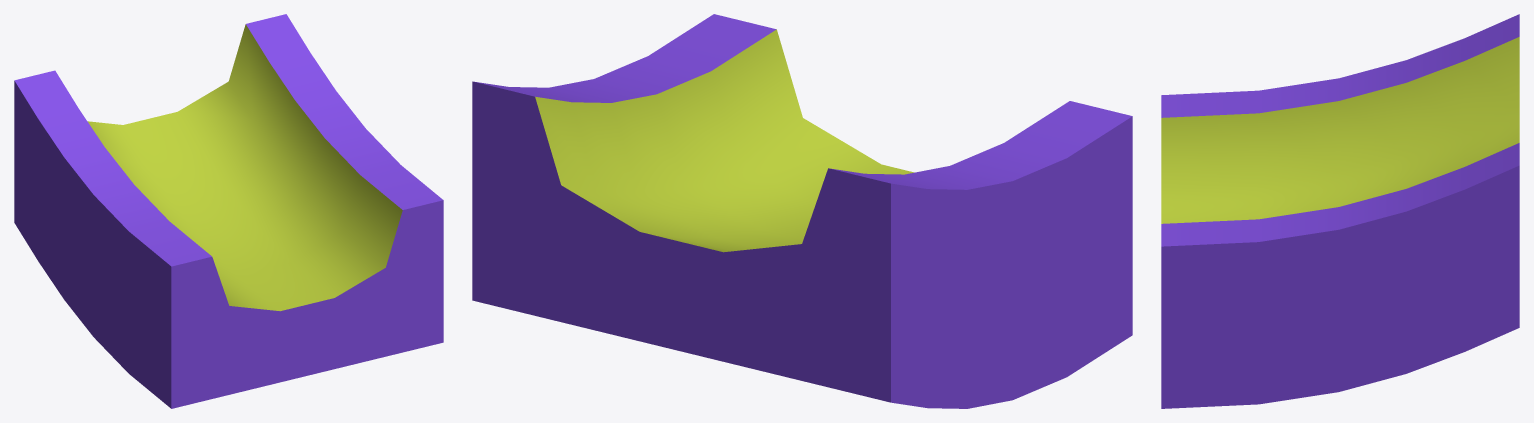
The model's file is rampStart_B-col.dae.
3 renders of one model, left to right at view 1: azimuth 30°, elevation 25°; view 2: azimuth 150°, elevation 25°; view 3: azimuth 270°, elevation 25°, orthographic. The views are drawn at different scales.
Parts seen in each view (by area): view 1: rampStart_B-col; view 2: rampStart_B-col; view 3: rampStart_B-col.
Boxes of the visible parts, x1,y1,x2,y2 form: rampStart_B-col: [14, 14, 443, 408]; rampStart_B-col: [472, 14, 1132, 408]; rampStart_B-col: [1161, 14, 1519, 408].
Size of the model in its own units: 1 by 1 by 0.75.
